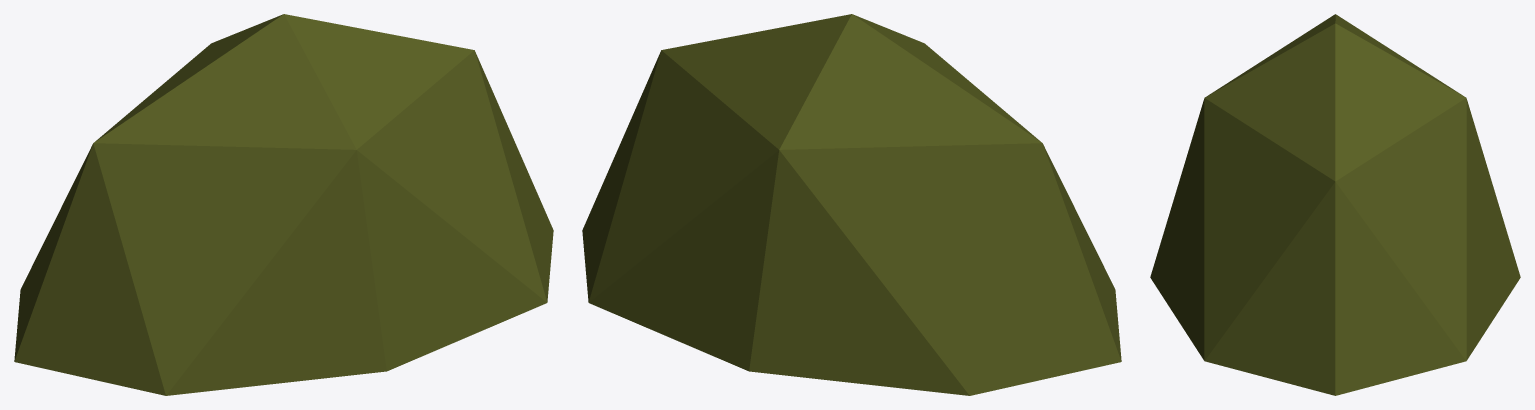
Rendered from TB_Env_Bush_Small_D.FBX.
3 views of the same model, side by side, from view 1: azimuth 30°, elevation 25°; view 2: azimuth 150°, elevation 25°; view 3: azimuth 270°, elevation 25° (orthographic). The views are drawn at different scales.
Parts seen in each view (by area): view 1: TB_Env_Bush_Small_D; view 2: TB_Env_Bush_Small_D; view 3: TB_Env_Bush_Small_D.
Boxes of the visible parts, left/top/right/bottom form: TB_Env_Bush_Small_D: left=14, top=14, right=553, bottom=395; TB_Env_Bush_Small_D: left=582, top=14, right=1121, bottom=395; TB_Env_Bush_Small_D: left=1150, top=14, right=1520, bottom=395.
Size of the model in its own units: 0.9949 by 0.4974 by 0.6574.
